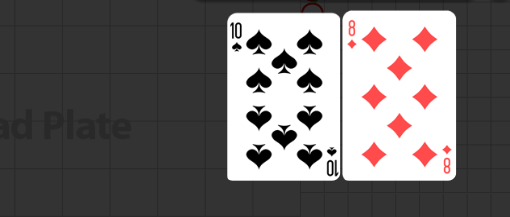10S: (229, 20, 243, 53)
8D: (346, 18, 358, 50)
